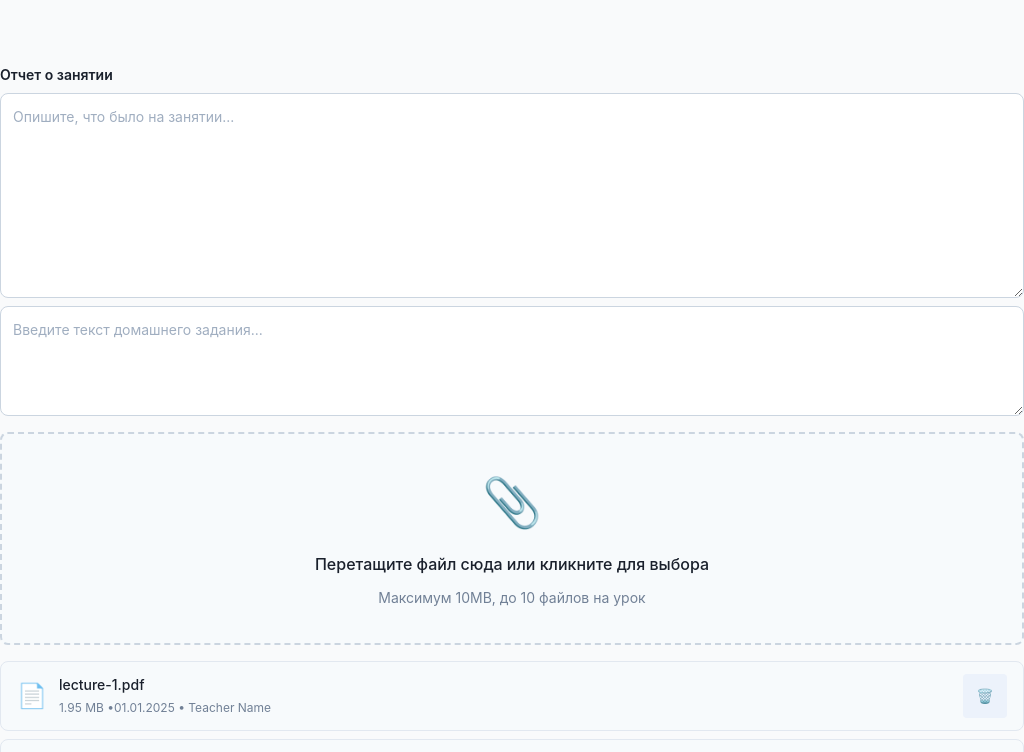
it: HomeworkSection › File Delete › should close modal after deletion
Click the button titled "Удалить" in the row of "01.01.2025". click: (985, 696)
box: [963,674,1007,718]
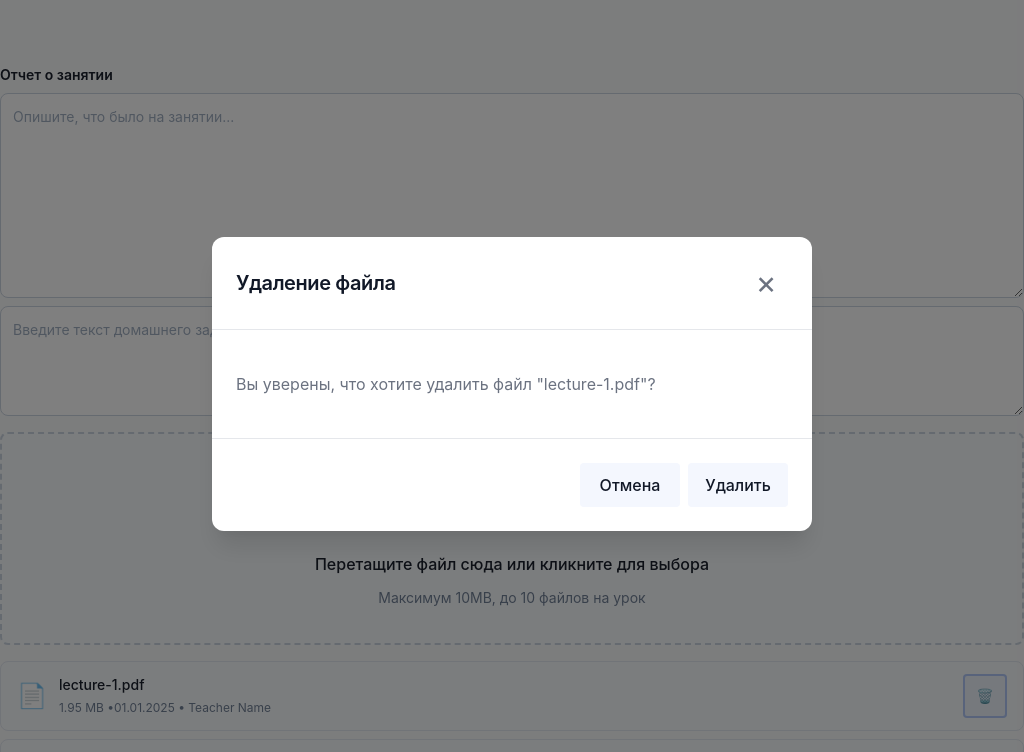
Expected: the text "Вы уверены, что хотите удалить файл \"lecture-1.pdf\"?" is shown, [236,374,656,394]
Click the button "Удалить". click: (738, 485)
box: [688,463,788,507]
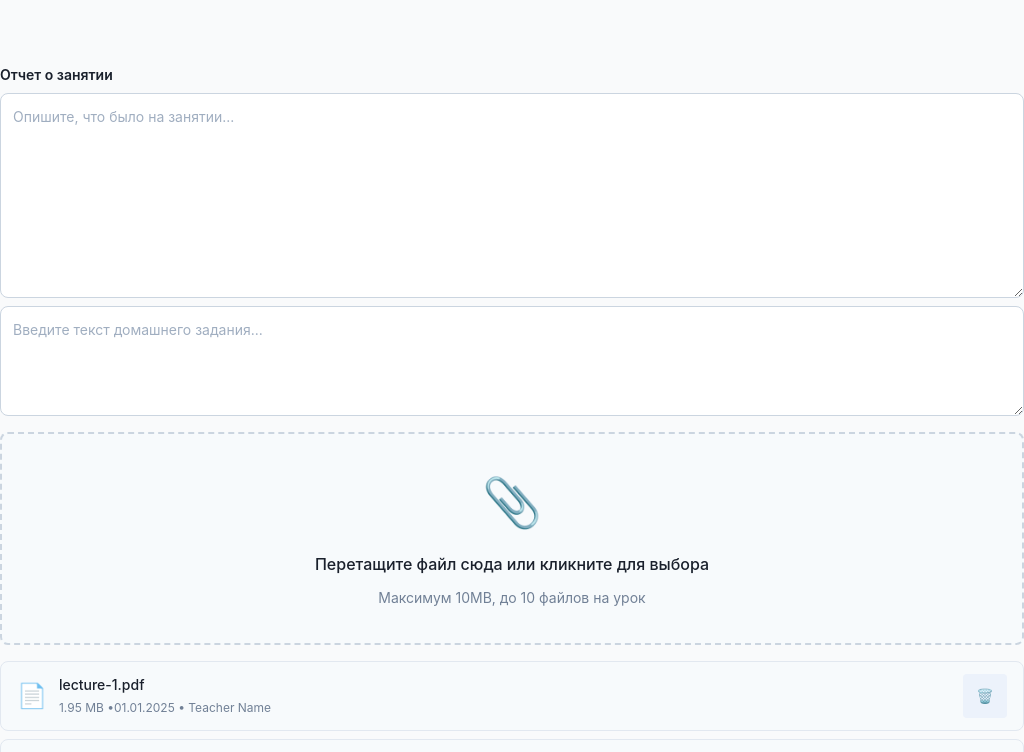
Expected: the text "Вы уверены" is gone
